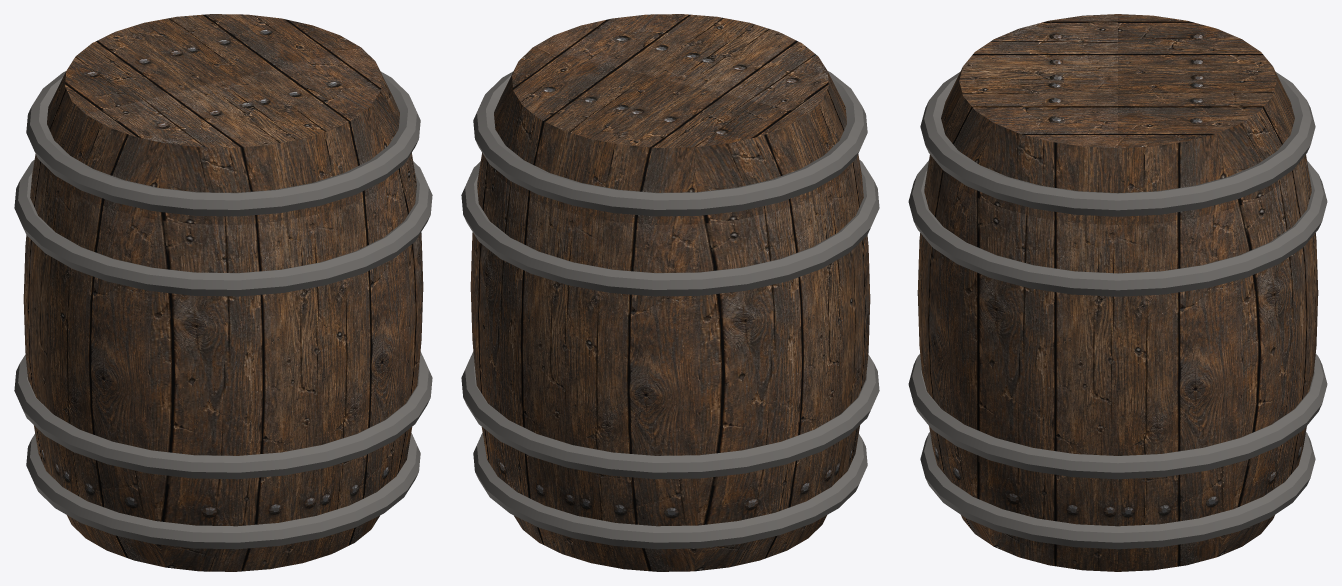
Rendered from barrel-v01.glb.
The picture shows the model from 3 angles, left to right: view 1: azimuth 30°, elevation 25°; view 2: azimuth 150°, elevation 25°; view 3: azimuth 270°, elevation 25°; orthographic projection.
Visible parts, largest first — view 1: barrel; view 2: barrel; view 3: barrel.
Part boxes in pixels (bbox=[...]): barrel: bbox=[14, 14, 432, 571]; barrel: bbox=[461, 14, 879, 571]; barrel: bbox=[908, 14, 1327, 571].
Bounding box in the file's own units: 1.17 × 1.3 × 1.17.
2 materials, 1 textured.
